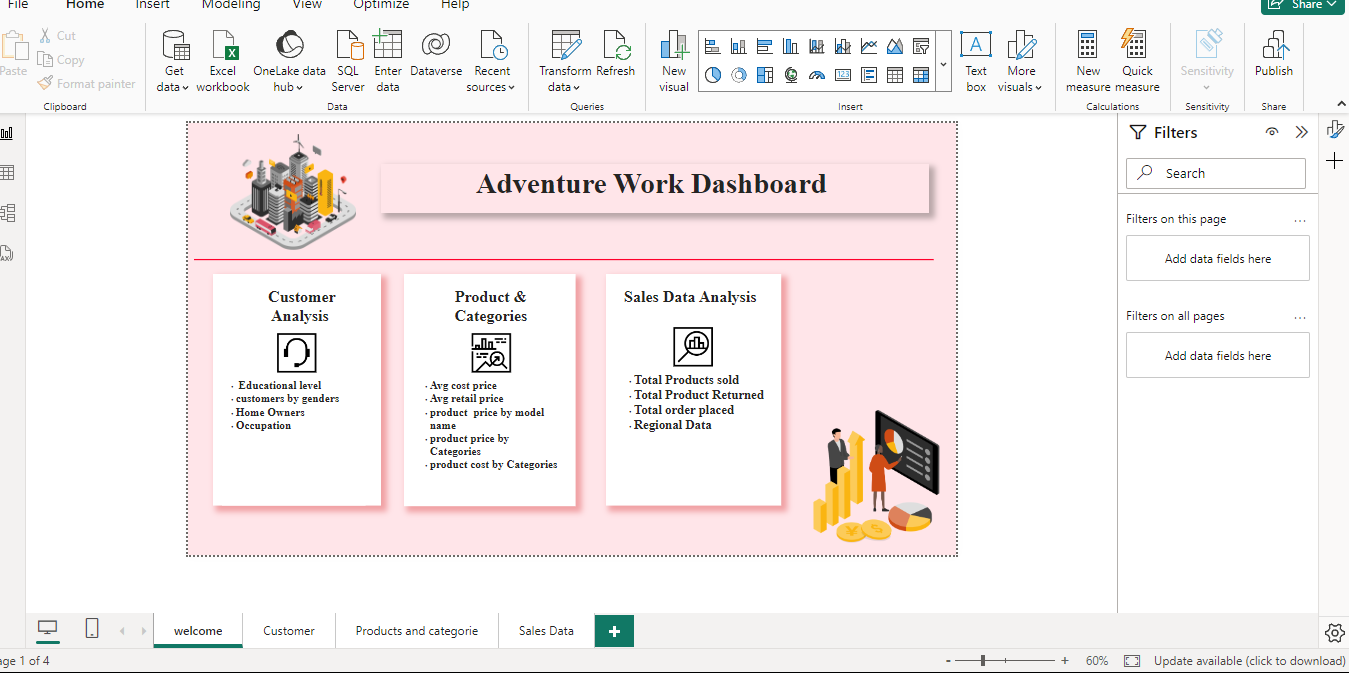

Layout of this report page (visuals, bound fields, positions):
{"tool":"powerbi","page":{"name":"welcome","canvas":[1280,720],"ordinal":0},"visuals":[{"type":"image","box":[1012.9,472.9,267.1,231.4],"z":10000},{"type":"textbox","box":[42,252,280,386],"z":10001},{"type":"textbox","box":[360,251.4,285.7,387.1],"z":10002},{"type":"textbox","box":[696,252,292,386],"z":10003},{"type":"basicShape","box":[0,202.9,1252.9,48.6],"z":10004},{"type":"textbox","box":[321.4,68.6,912.9,81.4],"z":10005},{"type":"image","box":[128.6,345.7,105.7,75.7],"z":10006},{"type":"image","box":[794.3,335.7,94.3,75.7],"z":10007},{"type":"image","box":[461.4,345.7,88.6,75.7],"z":10008},{"type":"textbox","box":[82.9,270,212.9,75.7],"z":10009},{"type":"textbox","box":[408.6,270,192.9,75.7],"z":10010},{"type":"textbox","box":[720,270,234.3,65.7],"z":10011},{"type":"textbox","box":[57.1,421.4,238.6,215.7],"z":10012},{"type":"textbox","box":[380,421.4,245.7,195.7],"z":10013},{"type":"textbox","box":[720,411.4,247.1,205.7],"z":10014},{"type":"image","box":[0,12.9,350,202.9],"z":10015}]}

Visuals, with their boxes on the page's 1280x720 design canvas (x1, y1, x2, y2). These are canvas units, not pixel positions in the 1349x673 screenshot, which may show the page scaled, cropped or inside an application window:
image: {"left": 1013, "top": 473, "right": 1280, "bottom": 704}
textbox: {"left": 42, "top": 252, "right": 322, "bottom": 638}
textbox: {"left": 360, "top": 251, "right": 646, "bottom": 638}
textbox: {"left": 696, "top": 252, "right": 988, "bottom": 638}
basicShape: {"left": 0, "top": 203, "right": 1253, "bottom": 252}
textbox: {"left": 321, "top": 69, "right": 1234, "bottom": 150}
image: {"left": 129, "top": 346, "right": 234, "bottom": 421}
image: {"left": 794, "top": 336, "right": 889, "bottom": 411}
image: {"left": 461, "top": 346, "right": 550, "bottom": 421}
textbox: {"left": 83, "top": 270, "right": 296, "bottom": 346}
textbox: {"left": 409, "top": 270, "right": 602, "bottom": 346}
textbox: {"left": 720, "top": 270, "right": 954, "bottom": 336}
textbox: {"left": 57, "top": 421, "right": 296, "bottom": 637}
textbox: {"left": 380, "top": 421, "right": 626, "bottom": 617}
textbox: {"left": 720, "top": 411, "right": 967, "bottom": 617}
image: {"left": 0, "top": 13, "right": 350, "bottom": 216}
